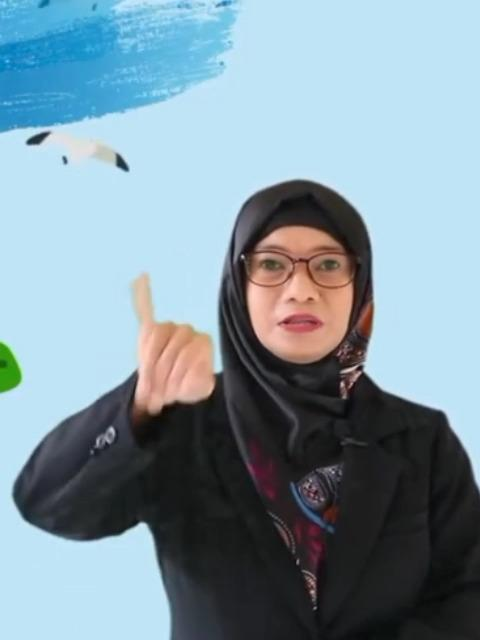I: (127, 268, 221, 418)
